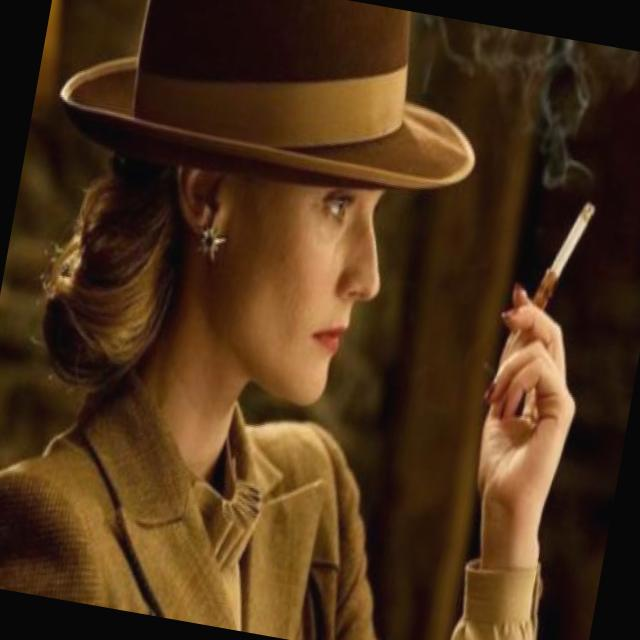cigarette: (530, 192, 596, 318)
